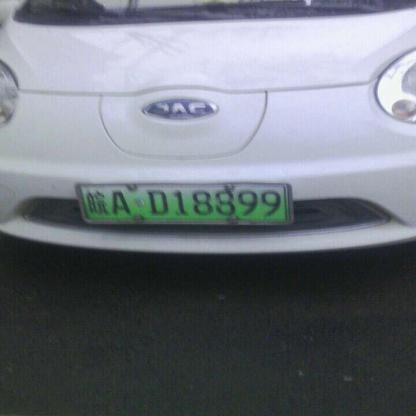lp: (75, 185, 289, 222)
